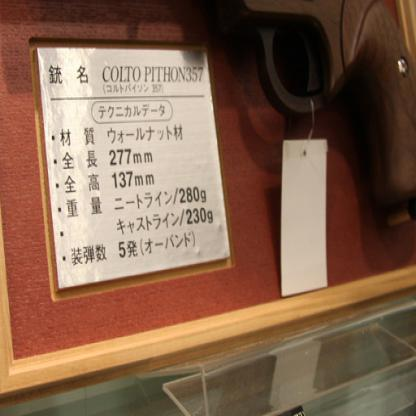gun: (3, 0, 415, 226)
